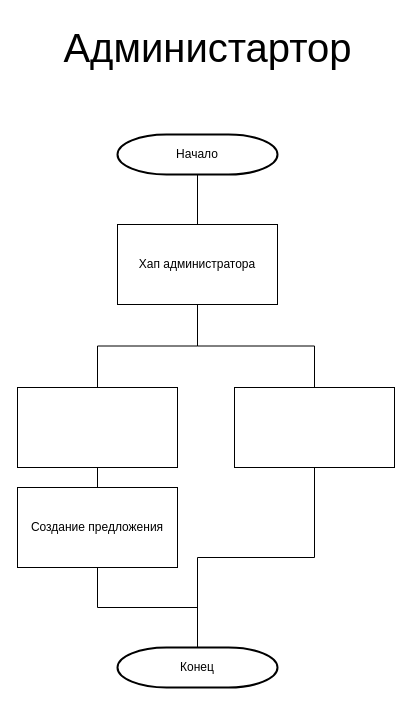
Image size: 412x705. Some labels were removed from this diagram. Each missing label, with the centre of its shape:
"Просмотр откликов" belongs at [314,427].
"Просмотр страницы" belongs at [97,427].
